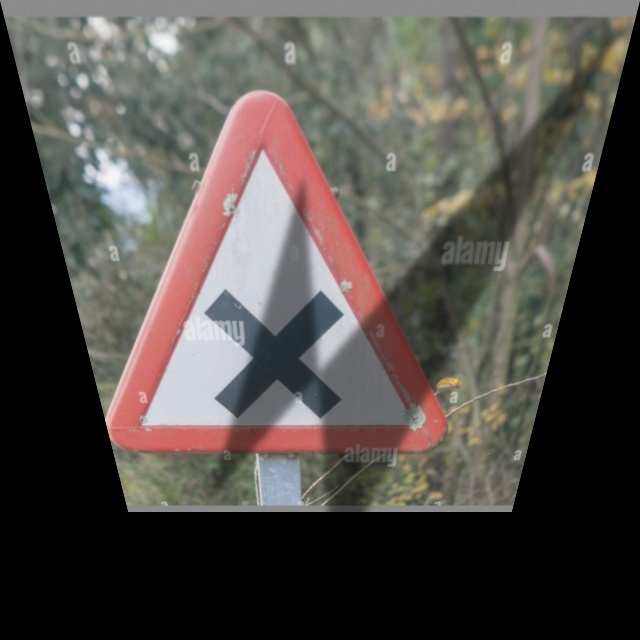Cross_Road: (40, 100, 490, 449)
